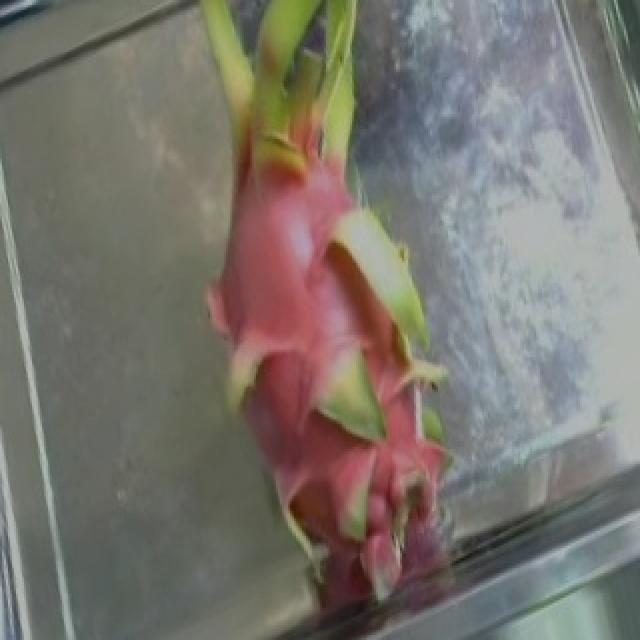fruit: (136, 178, 558, 640), (94, 0, 500, 414)
